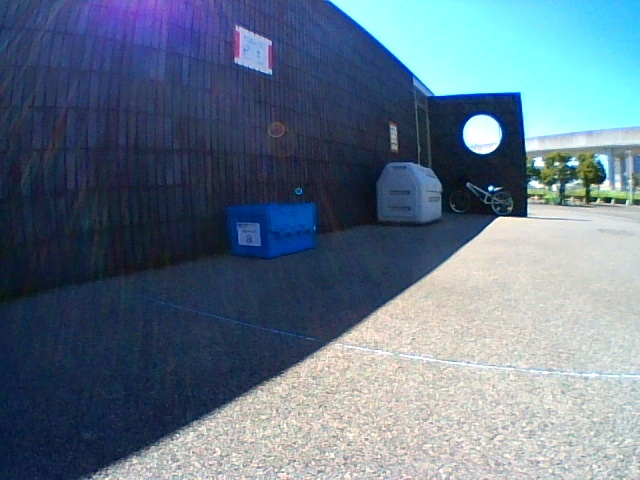blue_box: (229, 203, 316, 259)
tag_a: (240, 224, 259, 245)
